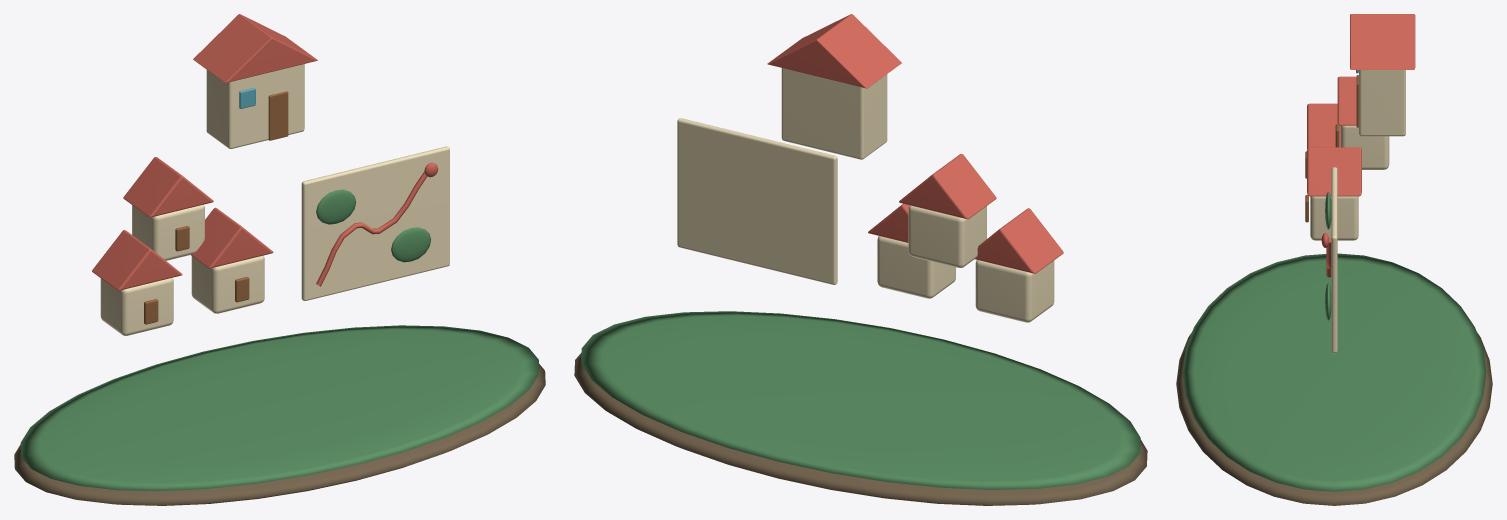
Rendered from complete-third-outlying-district.glb.
3 views of the same model, side by side, from view 1: azimuth 30°, elevation 25°; view 2: azimuth 150°, elevation 25°; view 3: azimuth 270°, elevation 25° (orthographic). The views are drawn at different scales.
Parts seen in each view (by area): view 1: complete-third-outlying-district_surface_01, complete-third-outlying-district_surface_02, complete-third-outlying-district_surface_03, complete-third-outlying-district_surface_00, complete-third-outlying-district_surface_04; view 2: complete-third-outlying-district_surface_01, complete-third-outlying-district_surface_02, complete-third-outlying-district_surface_03, complete-third-outlying-district_surface_00; view 3: complete-third-outlying-district_surface_01, complete-third-outlying-district_surface_03, complete-third-outlying-district_surface_02, complete-third-outlying-district_surface_00, complete-third-outlying-district_surface_04.
Boxes of the visible parts, left/top/right/bottom form: complete-third-outlying-district_surface_01: left=20, top=189, right=539, bottom=491; complete-third-outlying-district_surface_02: left=100, top=64, right=449, bottom=335; complete-third-outlying-district_surface_03: left=92, top=14, right=438, bottom=290; complete-third-outlying-district_surface_00: left=14, top=364, right=545, bottom=505; complete-third-outlying-district_surface_04: left=144, top=91, right=288, bottom=324; complete-third-outlying-district_surface_01: left=581, top=311, right=1140, bottom=489; complete-third-outlying-district_surface_02: left=677, top=68, right=1054, bottom=322; complete-third-outlying-district_surface_03: left=767, top=14, right=1063, bottom=273; complete-third-outlying-district_surface_00: left=574, top=352, right=1147, bottom=505; complete-third-outlying-district_surface_01: left=1182, top=192, right=1486, bottom=491; complete-third-outlying-district_surface_03: left=1307, top=14, right=1415, bottom=277; complete-third-outlying-district_surface_02: left=1310, top=70, right=1405, bottom=353; complete-third-outlying-district_surface_00: left=1176, top=332, right=1492, bottom=505; complete-third-outlying-district_surface_04: left=1305, top=75, right=1358, bottom=222.
Bounding box in the file's own units: 4.56 × 3.35 × 2.5.
